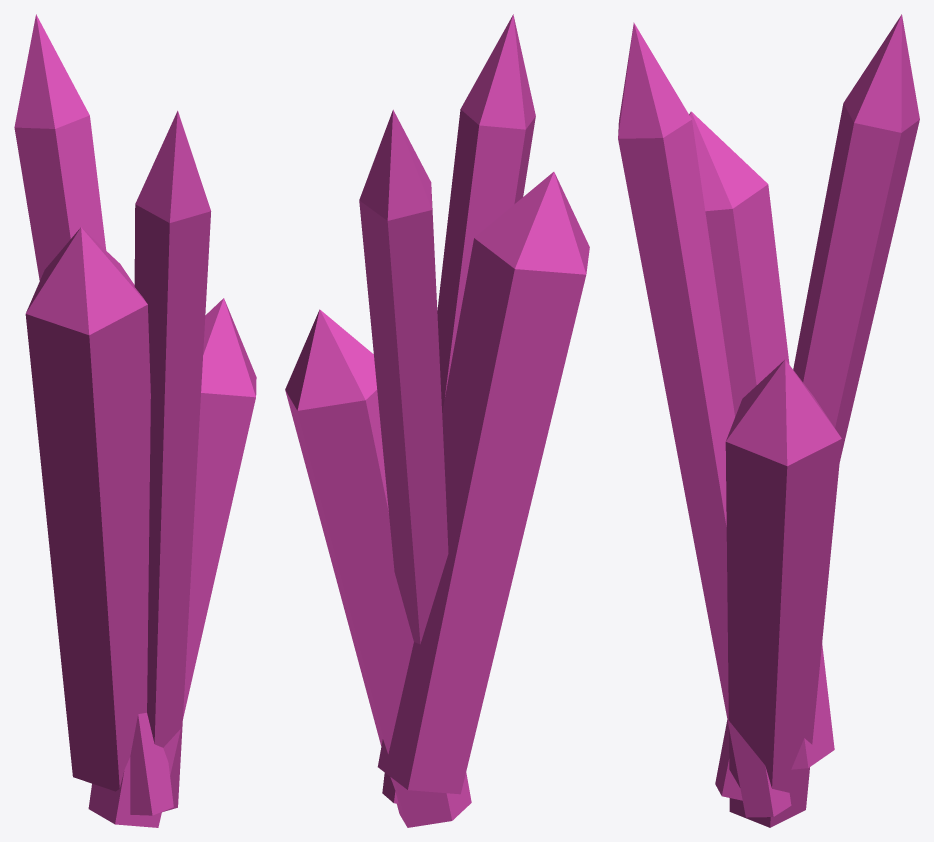
File: small_crystals_15_4.fbx
3 renders of one model, left to right at view 1: azimuth 30°, elevation 25°; view 2: azimuth 150°, elevation 25°; view 3: azimuth 270°, elevation 25°, orthographic. The views are drawn at different scales.
Visible parts, largest first — view 1: small crystals.029; view 2: small crystals.029; view 3: small crystals.029.
Part boxes in pixels (x1,y1,x2,y2): small crystals.029: (14, 14, 256, 827); small crystals.029: (285, 14, 589, 827); small crystals.029: (618, 14, 919, 827).
Size of the model in its own units: 119 by 328 by 114.
